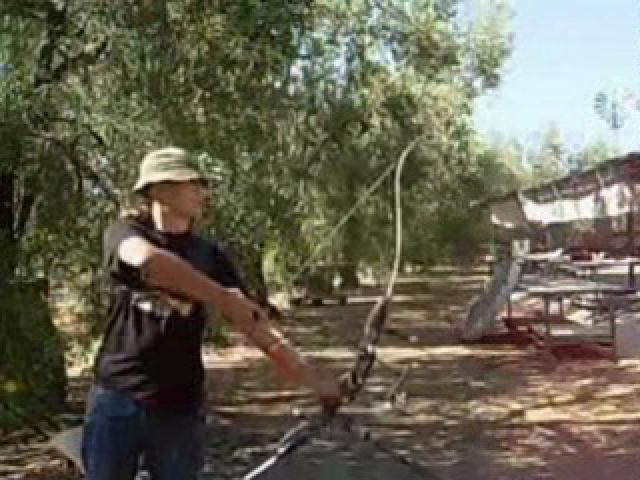I: (63, 134, 335, 480)
